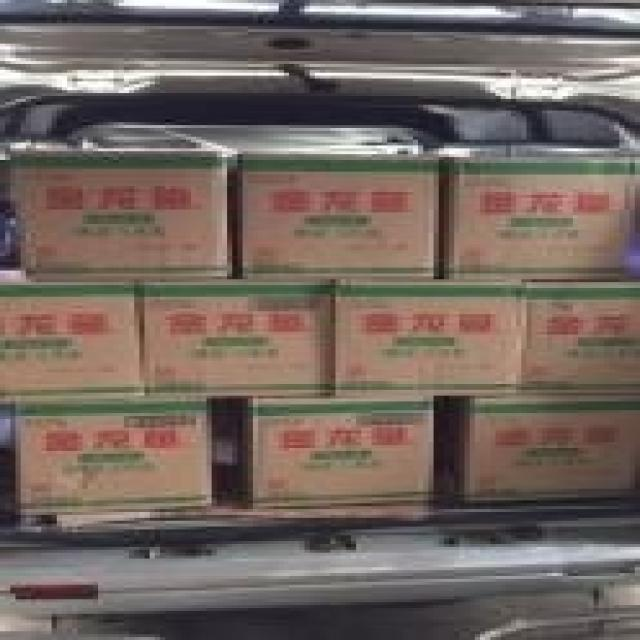box: (10, 151, 232, 279), (232, 154, 439, 279), (10, 399, 217, 515), (444, 157, 640, 279), (139, 279, 330, 396), (335, 279, 521, 399), (243, 399, 434, 509), (465, 396, 640, 503), (0, 279, 145, 399), (521, 282, 640, 396)
